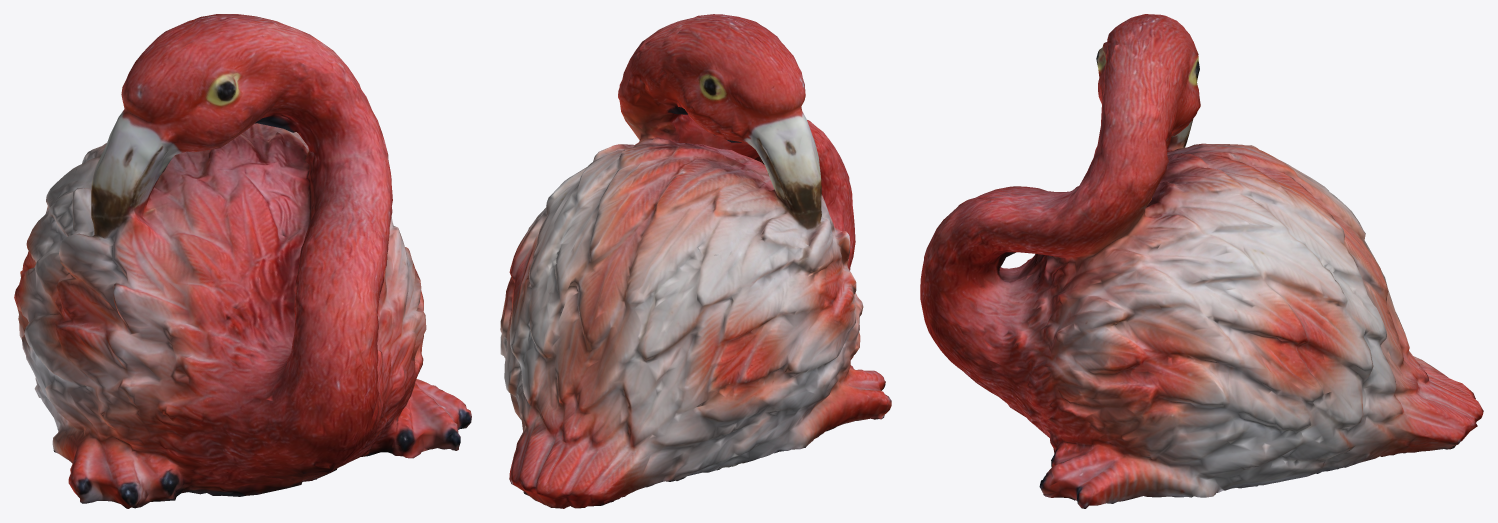
Rendered from Flamingo.fbx.
3 views of the same model, side by side, from view 1: azimuth 30°, elevation 25°; view 2: azimuth 150°, elevation 25°; view 3: azimuth 270°, elevation 25° (orthographic). The views are drawn at different scales.
Parts seen in each view (by area): view 1: Flamingo_LOD0; view 2: Flamingo_LOD0; view 3: Flamingo_LOD0.
Part boxes in pixels (box(x1,y1,x2,y2)): Flamingo_LOD0: box(14, 14, 471, 508); Flamingo_LOD0: box(500, 14, 891, 508); Flamingo_LOD0: box(920, 14, 1483, 508).
Size of the model in its own units: 140 by 154 by 198.
